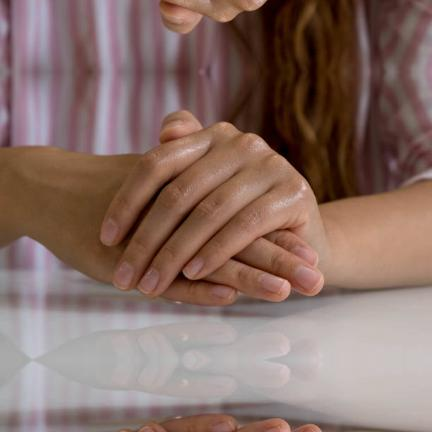Nail: (296, 268, 324, 290), (113, 262, 135, 290), (291, 244, 319, 266), (138, 267, 160, 294), (259, 275, 289, 293), (100, 218, 119, 246), (183, 258, 205, 278), (160, 118, 184, 135), (160, 9, 184, 26), (263, 427, 289, 432), (140, 426, 155, 432), (303, 430, 316, 432), (118, 430, 128, 432)
